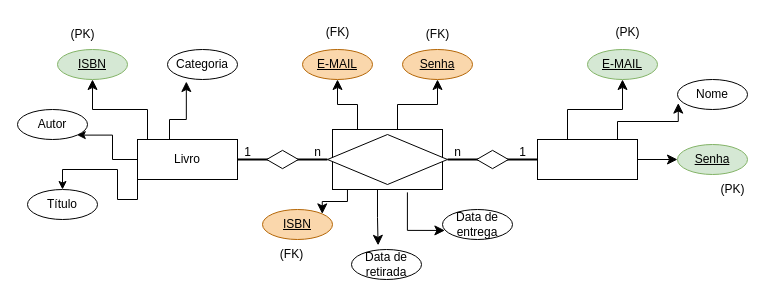
This 775x297 diagram has some shape labels left out. The box of each missing label's shape, as (x1, y1, x2, y2) in pixels:
Empréstimo: (326, 134, 448, 184)
Usuário: (536, 138, 638, 180)
